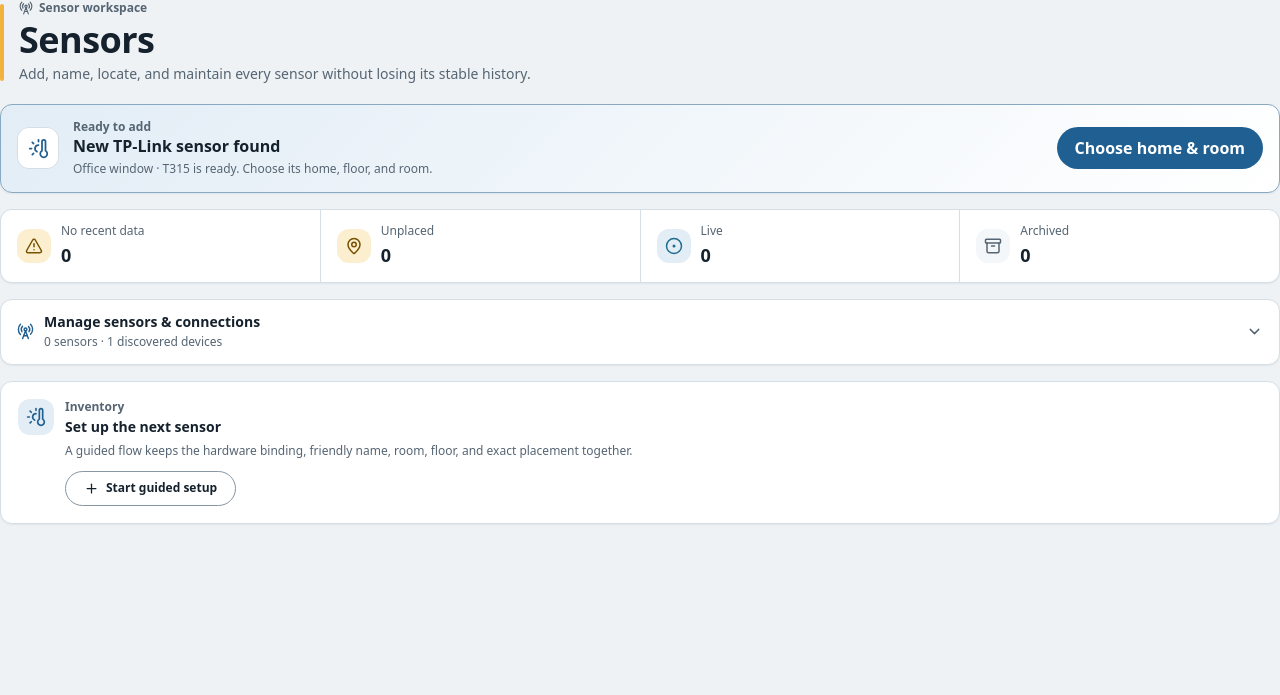
Test case: sensor onboarding and management › shows true onboarding instead of an empty filtered inventory when a home has no sensors
This screenshot has width=1280, height=695.
Expected: the heading "Set up the next sensor" is shown, [65,417,221,436]
Click the button "Start guided setup" at x=151, y=488, box [65,471,236,506]
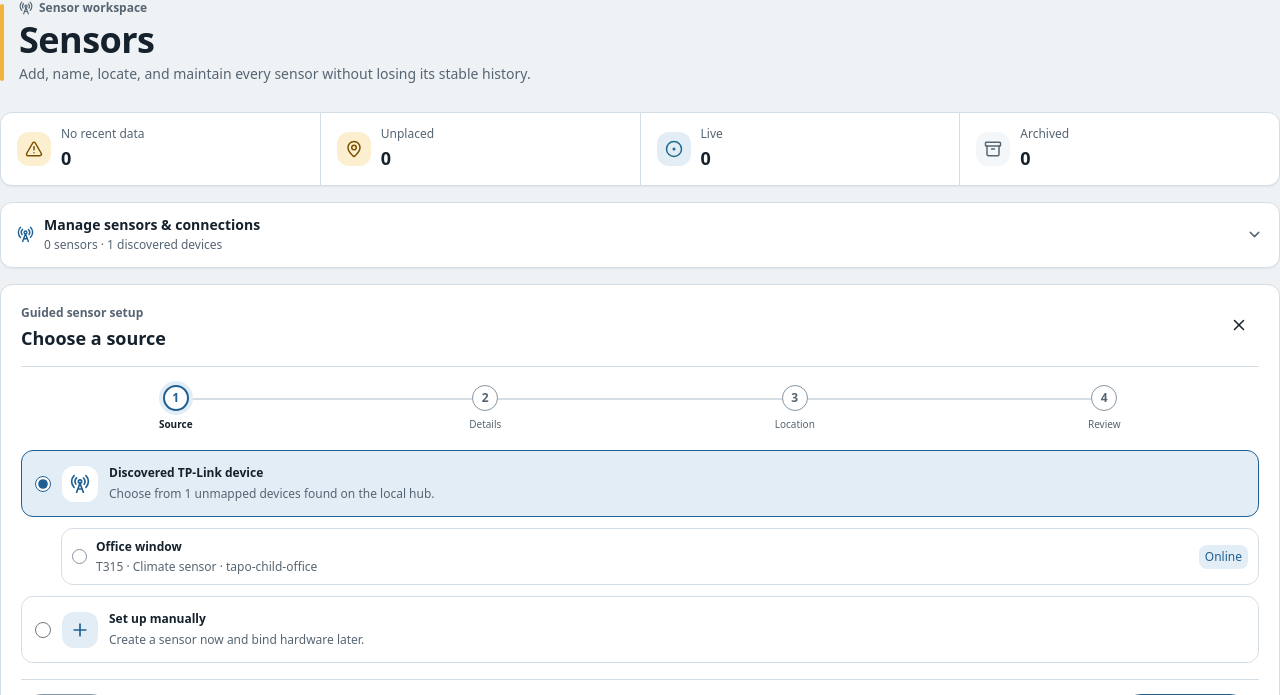
Now the heading "Choose a source" is shown, box [21,326,166,352]
